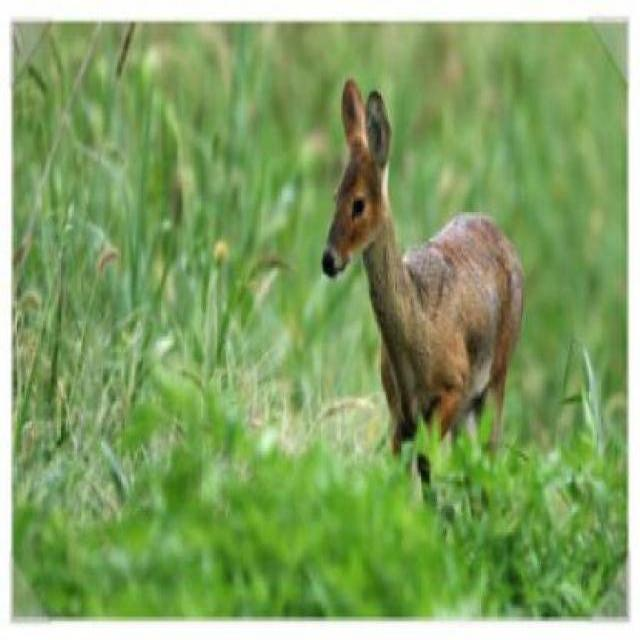deer: (322, 61, 518, 507)
